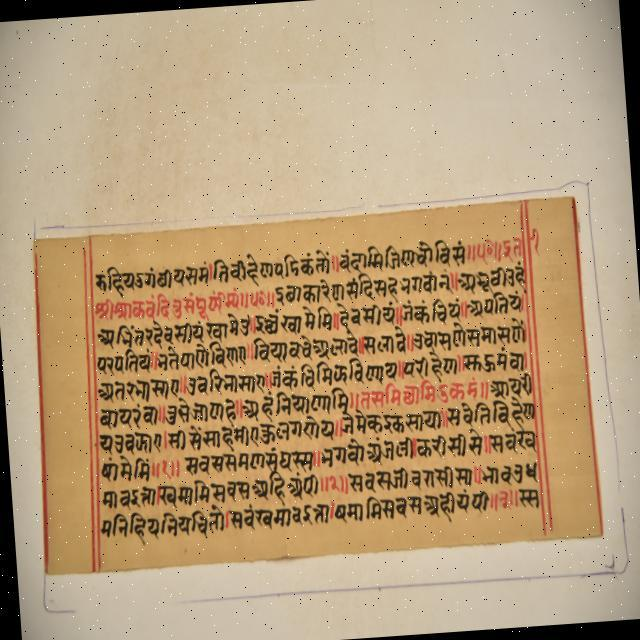text_paragraph: (35, 196, 602, 574)
